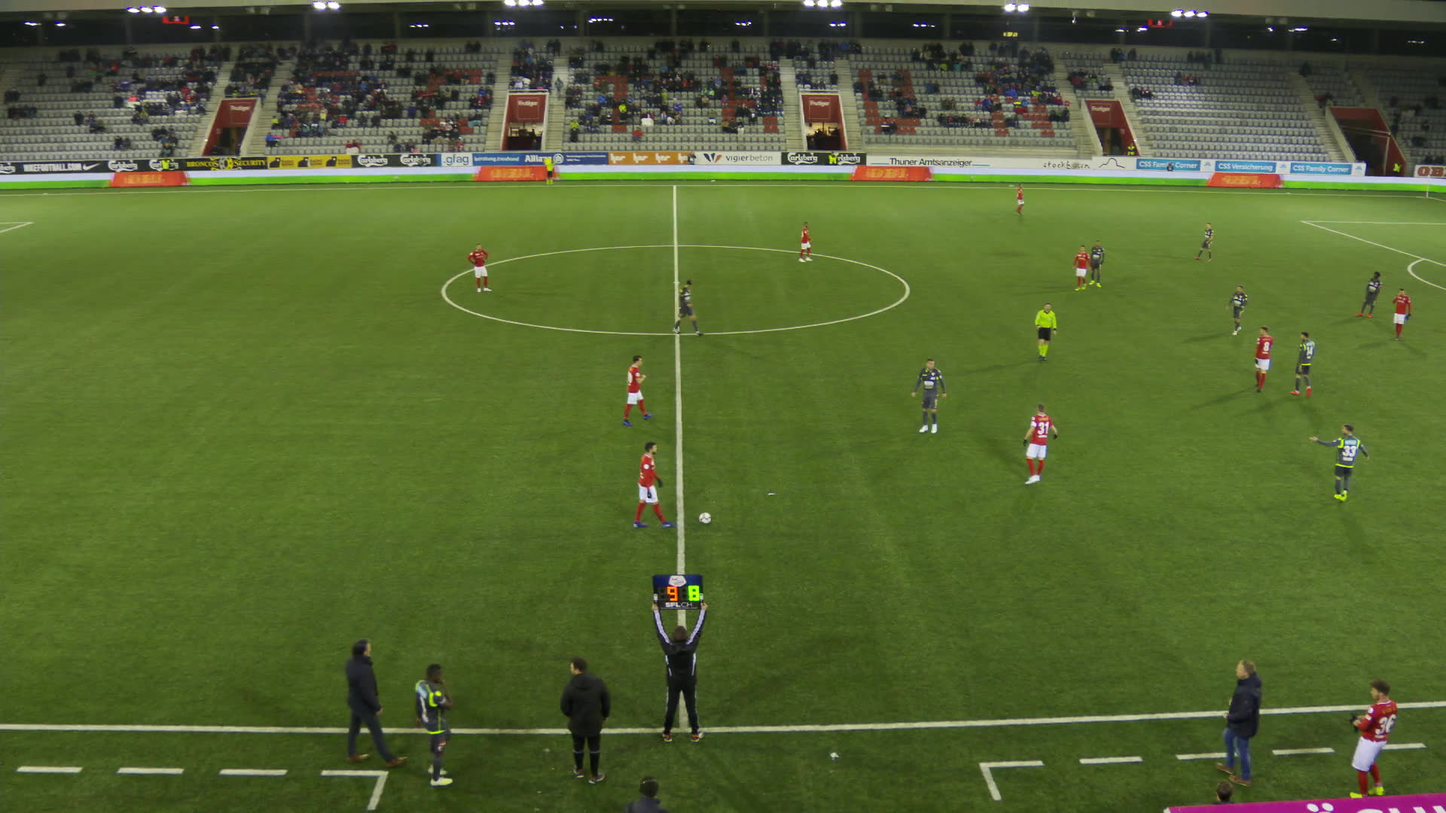ball: (697, 511, 710, 524)
player: (1347, 677, 1397, 797), (410, 663, 457, 786), (1308, 424, 1369, 504), (630, 440, 670, 528), (1021, 403, 1058, 484), (911, 359, 947, 434), (621, 353, 652, 425), (1289, 330, 1315, 397), (1249, 325, 1273, 393), (673, 279, 701, 336), (1355, 270, 1382, 318), (466, 242, 491, 292), (1225, 285, 1246, 335), (1392, 288, 1411, 341), (1071, 244, 1089, 291), (1087, 239, 1104, 287), (1194, 221, 1214, 260), (797, 220, 813, 262), (1014, 182, 1024, 215)
referee: (1034, 303, 1056, 363), (541, 156, 553, 184)
